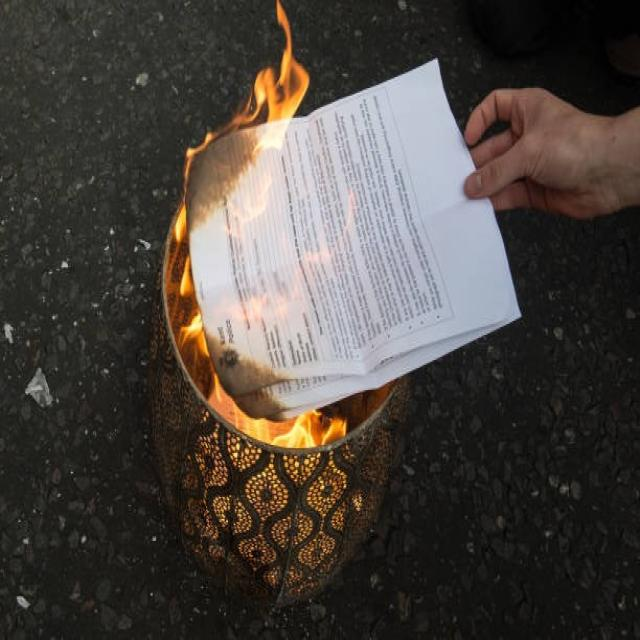fire: (174, 0, 309, 239), (272, 409, 346, 449), (178, 305, 210, 358), (212, 370, 238, 422)
